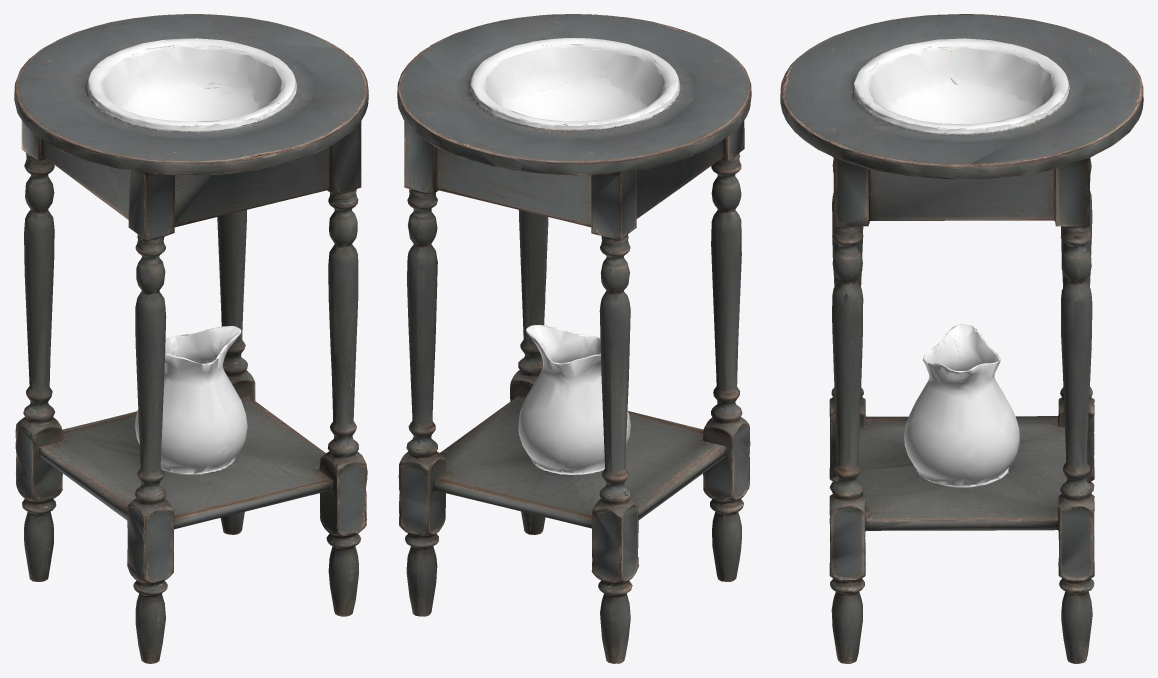
File: washbasin-stand.glb
3 views of the same model, side by side, from view 1: azimuth 30°, elevation 25°; view 2: azimuth 150°, elevation 25°; view 3: azimuth 270°, elevation 25° (orthographic). The views are drawn at different scales.
Parts seen in each view (by area): view 1: Mesh_0; view 2: Mesh_0; view 3: Mesh_0.
Part boxes in pixels (x1=…): Mesh_0: x1=14, y1=14, x2=368, y2=663; Mesh_0: x1=397, y1=14, x2=751, y2=663; Mesh_0: x1=780, y1=14, x2=1143, y2=663.
Bounding box in the file's own units: 1.18 × 1.9 × 1.18.
1 material, 1 textured.
